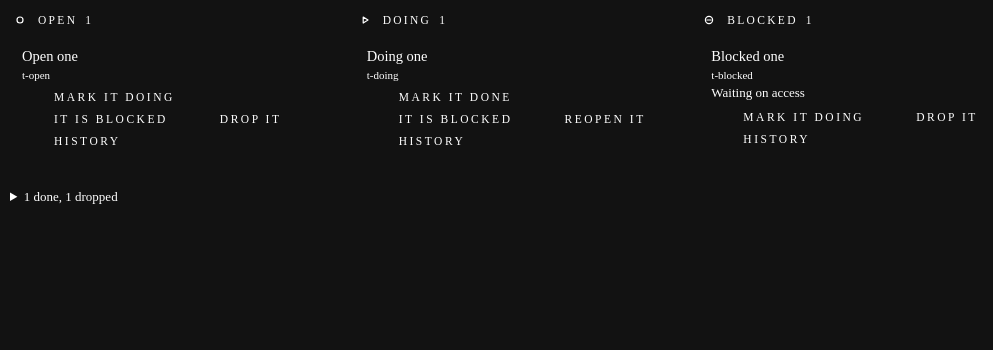
Test: TaskBoard › shows the line each move runs, and moves the card when pressed
This screenshot has width=993, height=350.
Step 1. Click the button "Mark it doing" below "t-open" → point(100, 97), box [22, 87, 179, 107]
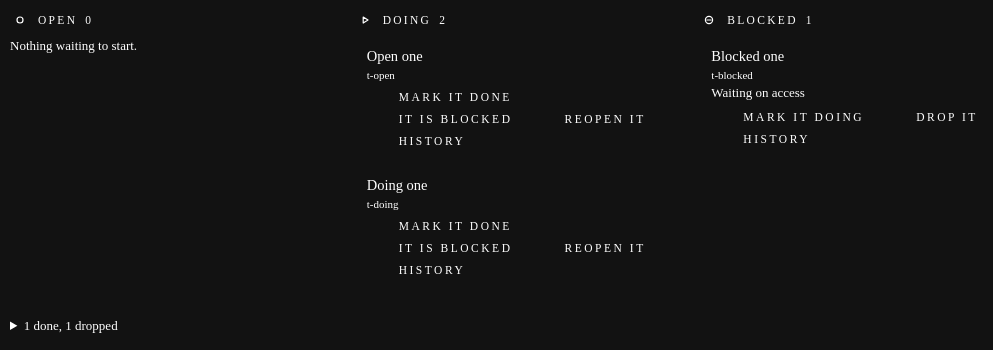
Now the element named "Open one, doing" is shown, box [355, 38, 669, 161]
